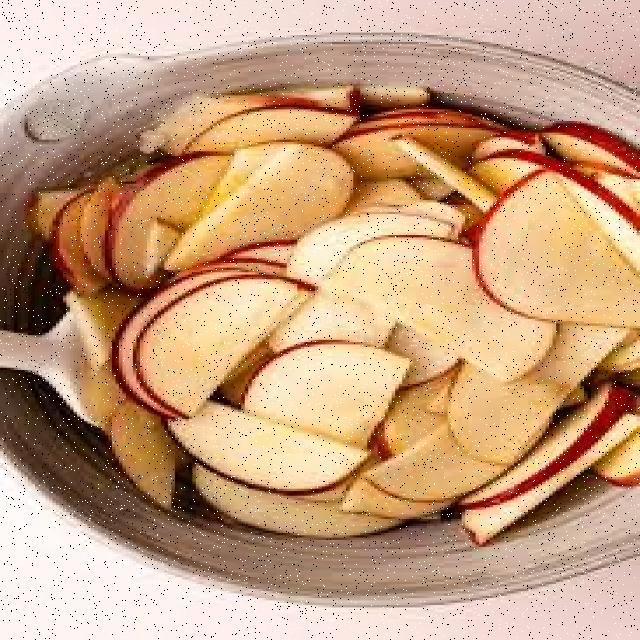Apple: (105, 264, 309, 425), (332, 242, 534, 379), (463, 383, 626, 549), (476, 184, 633, 326), (163, 407, 367, 497), (184, 151, 336, 270), (183, 483, 420, 551), (369, 378, 462, 504), (327, 112, 495, 164), (42, 170, 103, 294), (168, 107, 346, 148)
